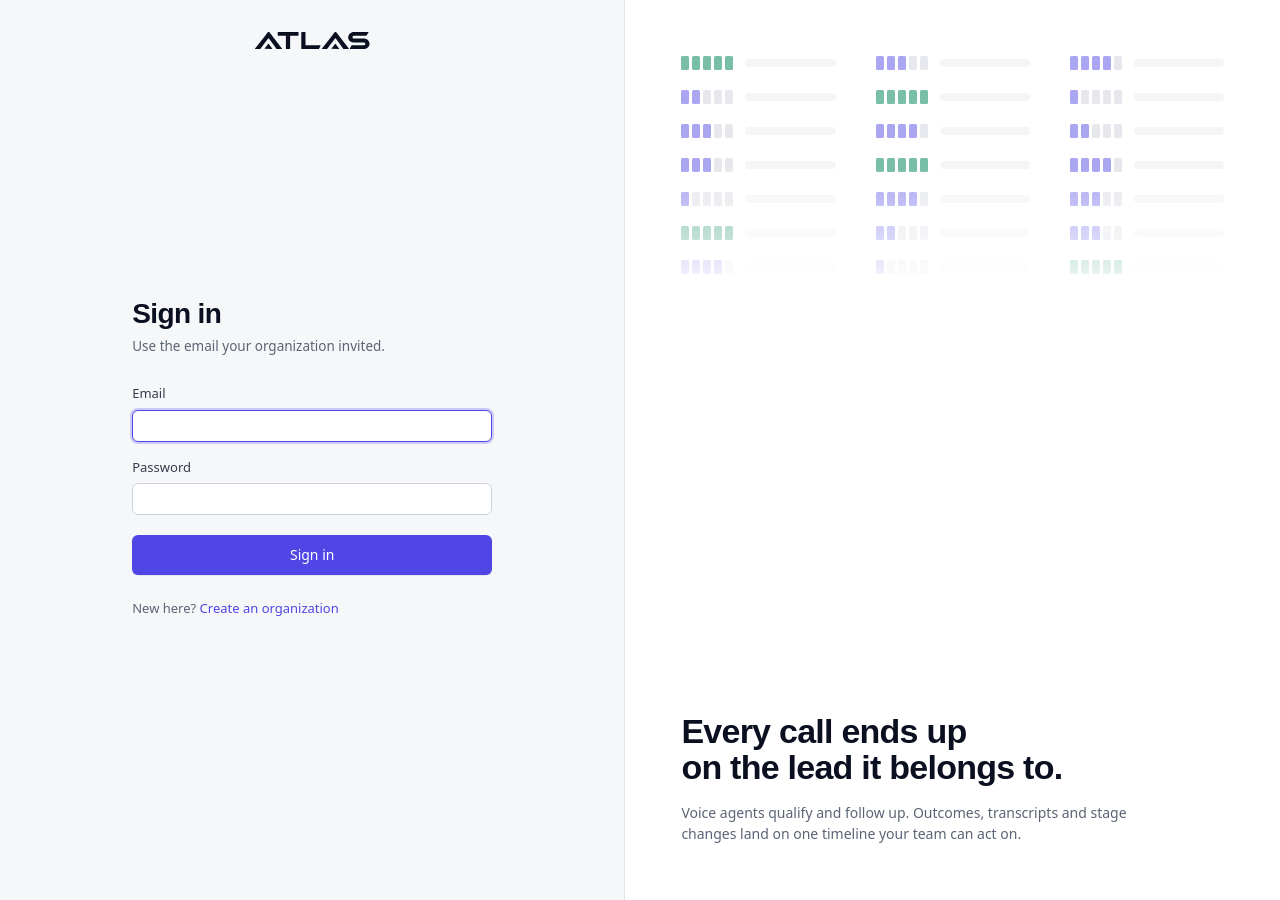
Scenario: SignInPage › shows the server's message when sign-in fails
Type "a@example.com" into the field labelled "Email".
click(312, 426); type("a@example.com")  # box [132,410,492,442]
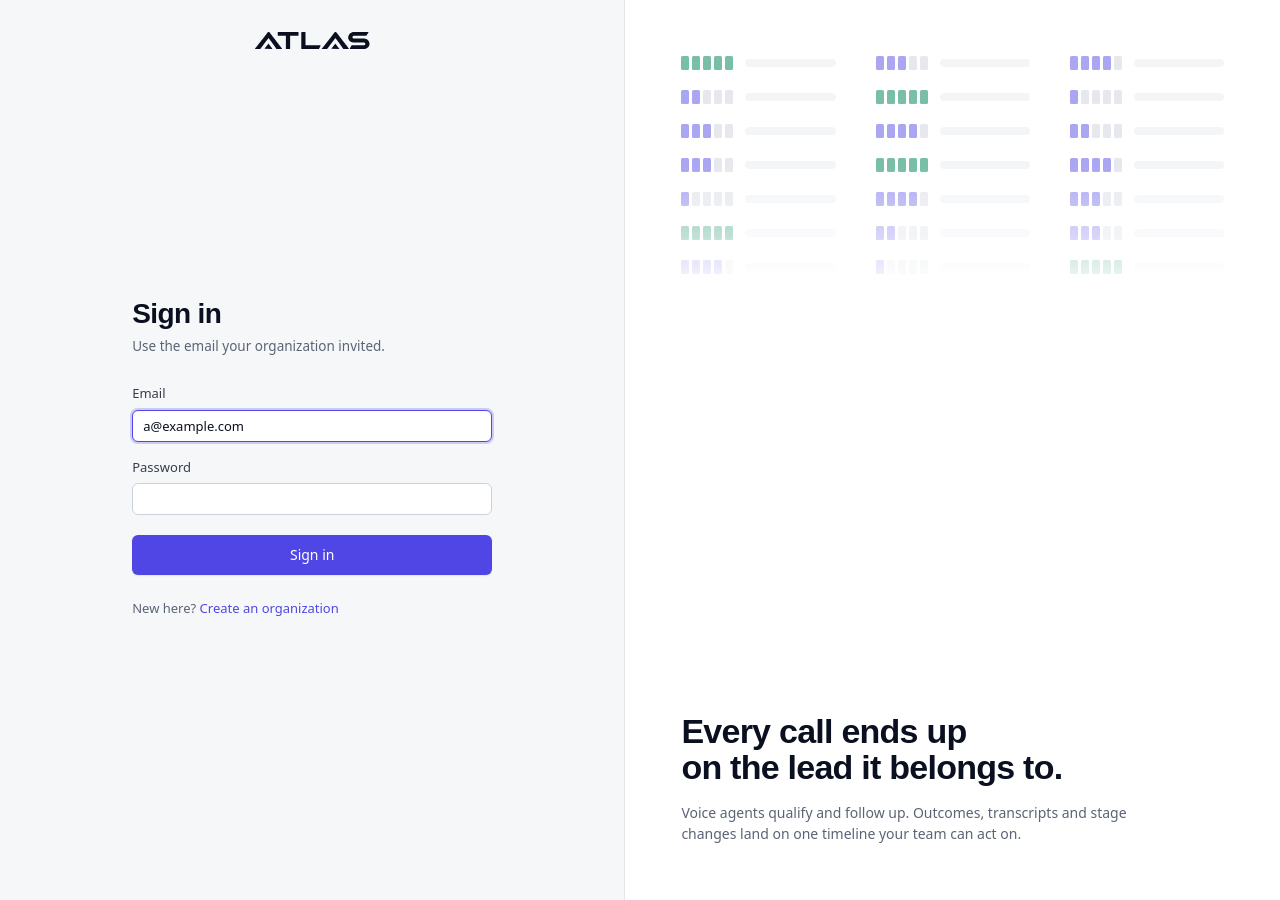
Type "wrong-password" into the password field labelled "Password".
click(312, 500); type("wrong-password")  # box [132,484,492,516]
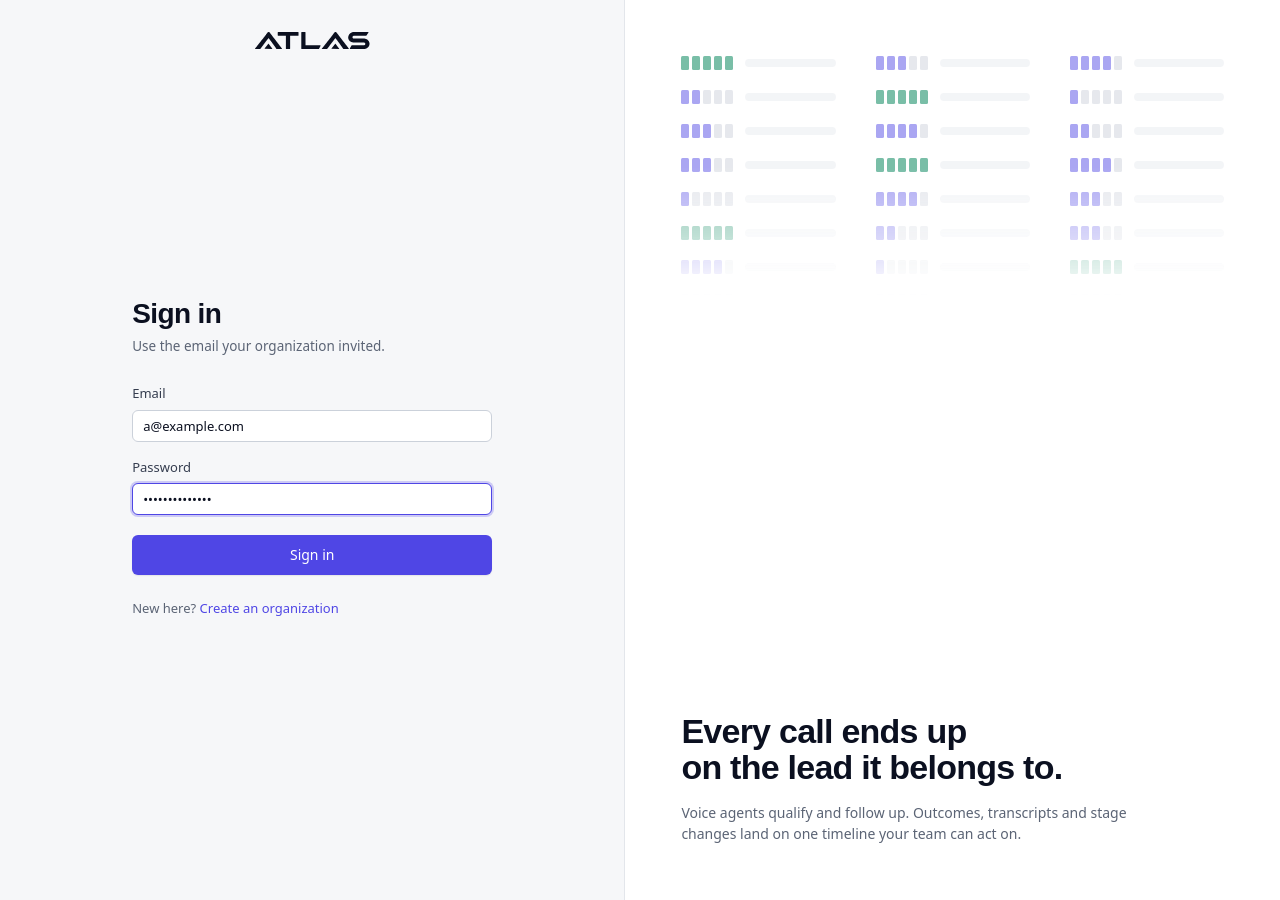
Click the button "Sign in".
click(312, 556)  # box [132,536,492,576]
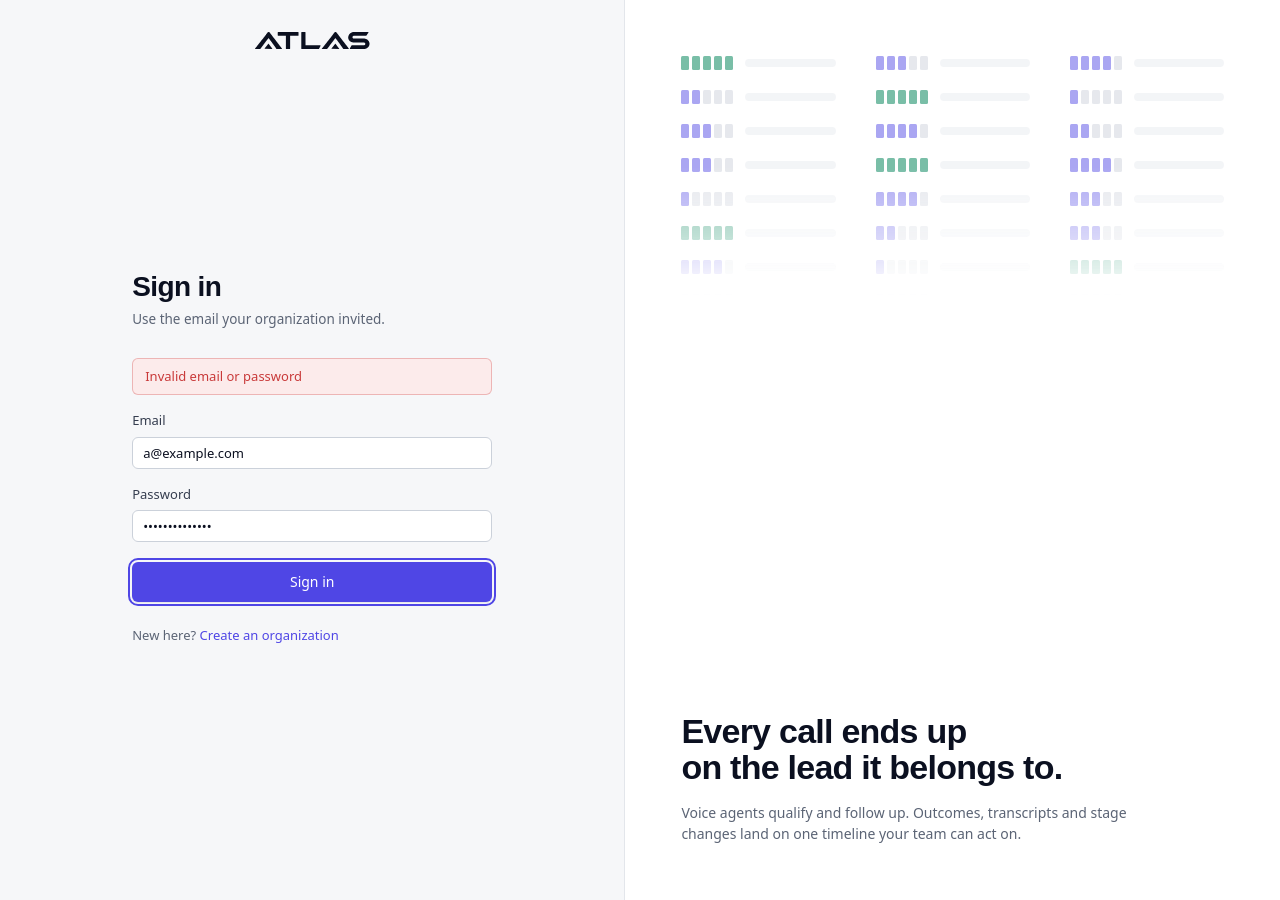
Expected: the message reads "Invalid email or password", [145,367,302,385]
